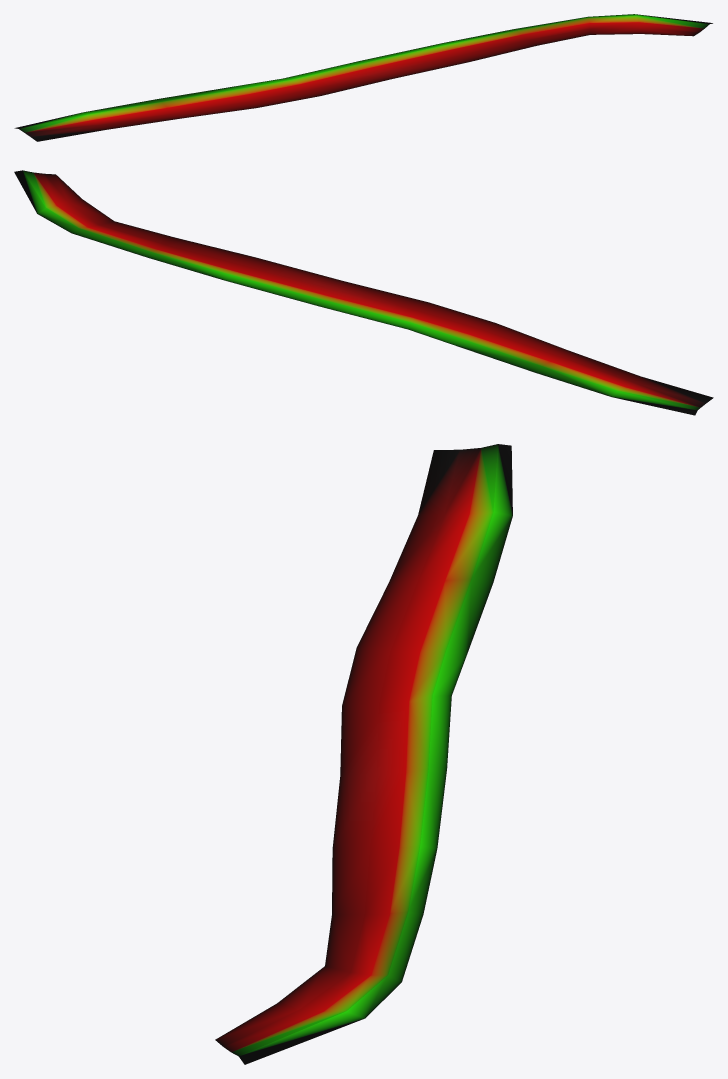
File: Water_hua.fbx
The picture shows the model from 3 angles, top to bottom: view 1: azimuth 30°, elevation 25°; view 2: azimuth 150°, elevation 25°; view 3: azimuth 270°, elevation 25°; orthographic projection. The views are drawn at different scales.
Parts seen in each view (by area): view 1: water_Lang.006; view 2: water_Lang.006; view 3: water_Lang.006.
Part boxes in pixels (x1,y1,x2,y2): water_Lang.006: (14, 14, 712, 141); water_Lang.006: (14, 170, 713, 415); water_Lang.006: (215, 444, 512, 1064).
Bounding box in the file's own units: 19.25 × 0.0948 × 3.92.
